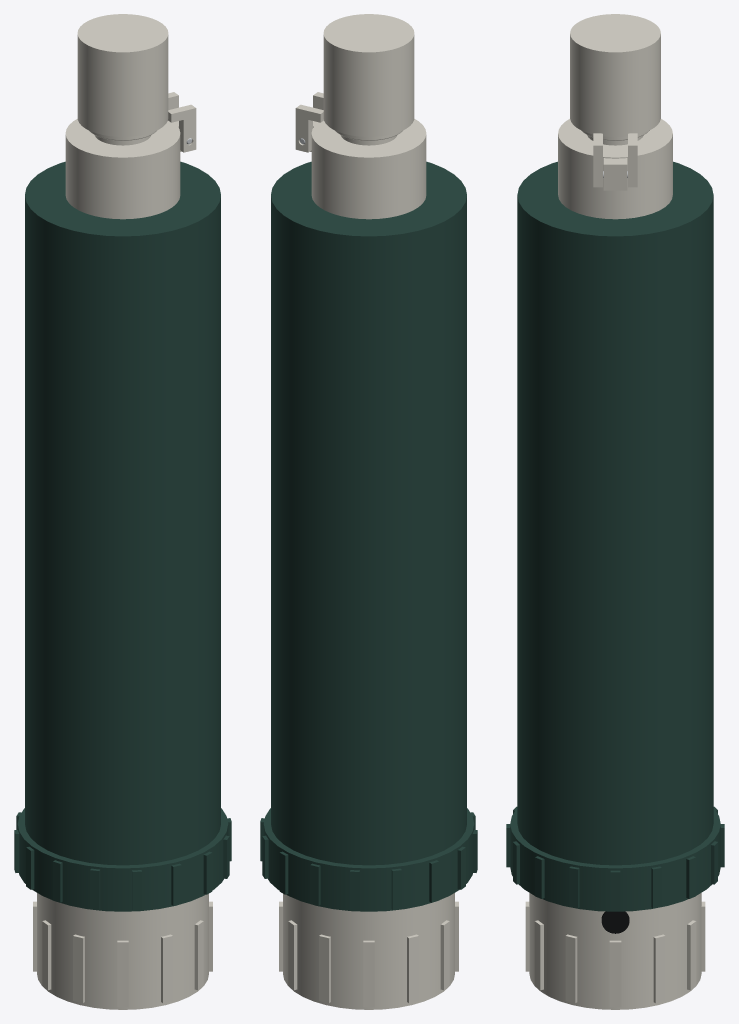
3 renders of one model, left to right at view 1: azimuth 30°, elevation 25°; view 2: azimuth 150°, elevation 25°; view 3: azimuth 270°, elevation 25°, orthographic.
Visible parts, largest first — view 1: Housing, Neck collar with PCO 1881 thread, Dust cover, Spout with nozzle and hinge lug; view 2: Housing, Neck collar with PCO 1881 thread, Dust cover, Spout with nozzle and hinge lug; view 3: Housing, Neck collar with PCO 1881 thread, Dust cover, Spout with nozzle and hinge lug, Duckbill air valve (silicone).
Boxes of the visible parts, left/top/right/bottom form: Housing: left=14, top=161, right=231, bottom=911; Neck collar with PCO 1881 thread: left=33, top=893, right=212, bottom=1009; Dust cover: left=77, top=14, right=196, bottom=152; Spout with nozzle and hinge lug: left=65, top=119, right=181, bottom=219; Housing: left=260, top=161, right=477, bottom=911; Neck collar with PCO 1881 thread: left=279, top=893, right=458, bottom=1009; Dust cover: left=295, top=14, right=414, bottom=152; Spout with nozzle and hinge lug: left=310, top=119, right=426, bottom=219; Housing: left=506, top=161, right=724, bottom=911; Neck collar with PCO 1881 thread: left=525, top=893, right=705, bottom=1009; Dust cover: left=570, top=14, right=660, bottom=187; Spout with nozzle and hinge lug: left=558, top=119, right=672, bottom=219; Duckbill air valve (silicone): left=601, top=911, right=629, bottom=933.
Size of the model in its own units: 0.0456 by 0.2168 by 0.0456.
